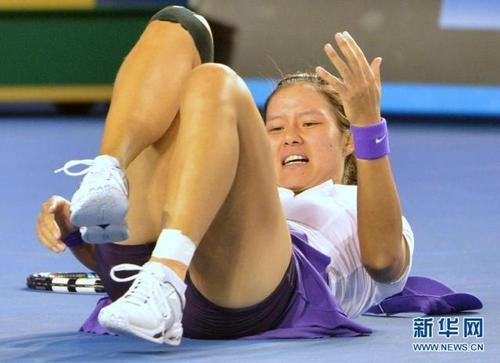Fall-Detected: (26, 0, 471, 361)
